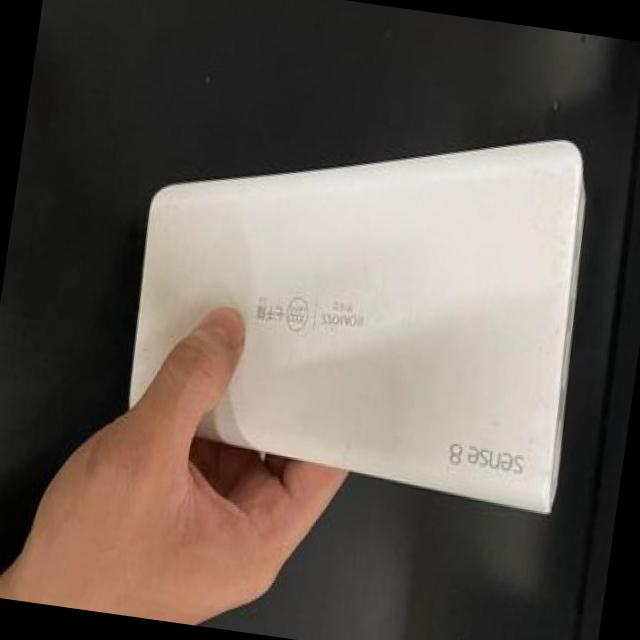power_bank: (105, 73, 613, 520)
